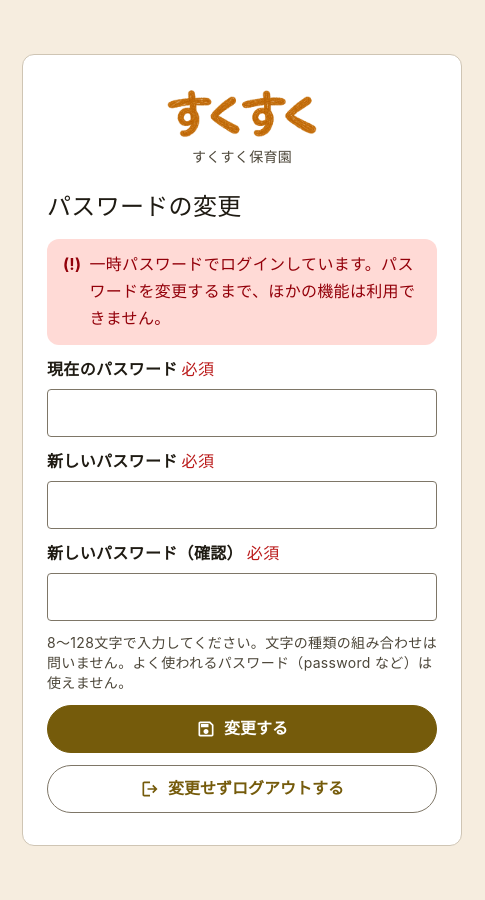
Test: 強制のパスワード変更・規約への同意の経路（GitHub Issue #178 の 4） › 一時パスワードの画面に「変更せずログアウトする」を置き、押すと職員用トップへ戻る
Check: the text "一時パスワードでログインしています。パスワードを変更するまで、ほかの機能は利用できません。" is shown, box [89,251,421,333]
Click the button "変更せずログアウトする" at (242, 789), box [47,765,437,813]
(page scrolled)
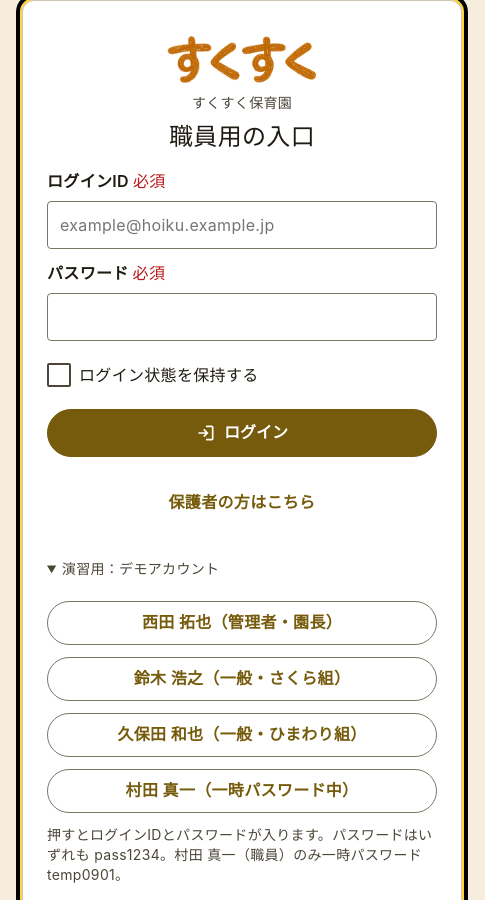
Check: the heading "職員用の入口" is shown, box [169,122,315,151]
